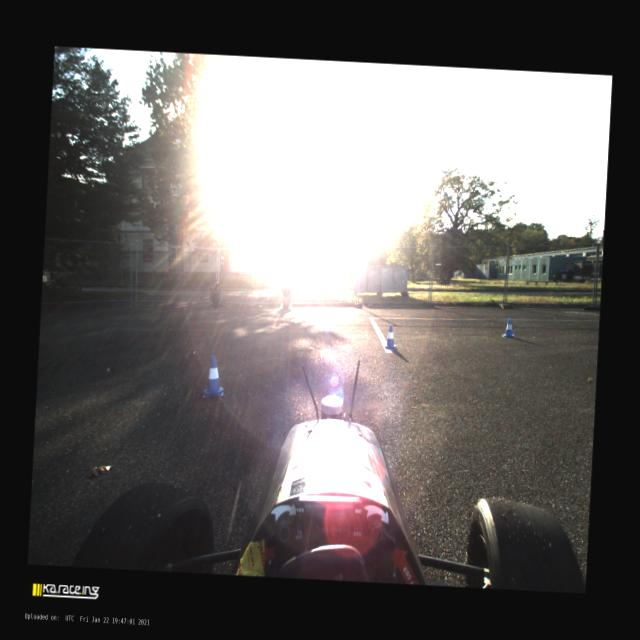blue_cone: (203, 357, 225, 398), (384, 324, 398, 350), (502, 318, 517, 339)
